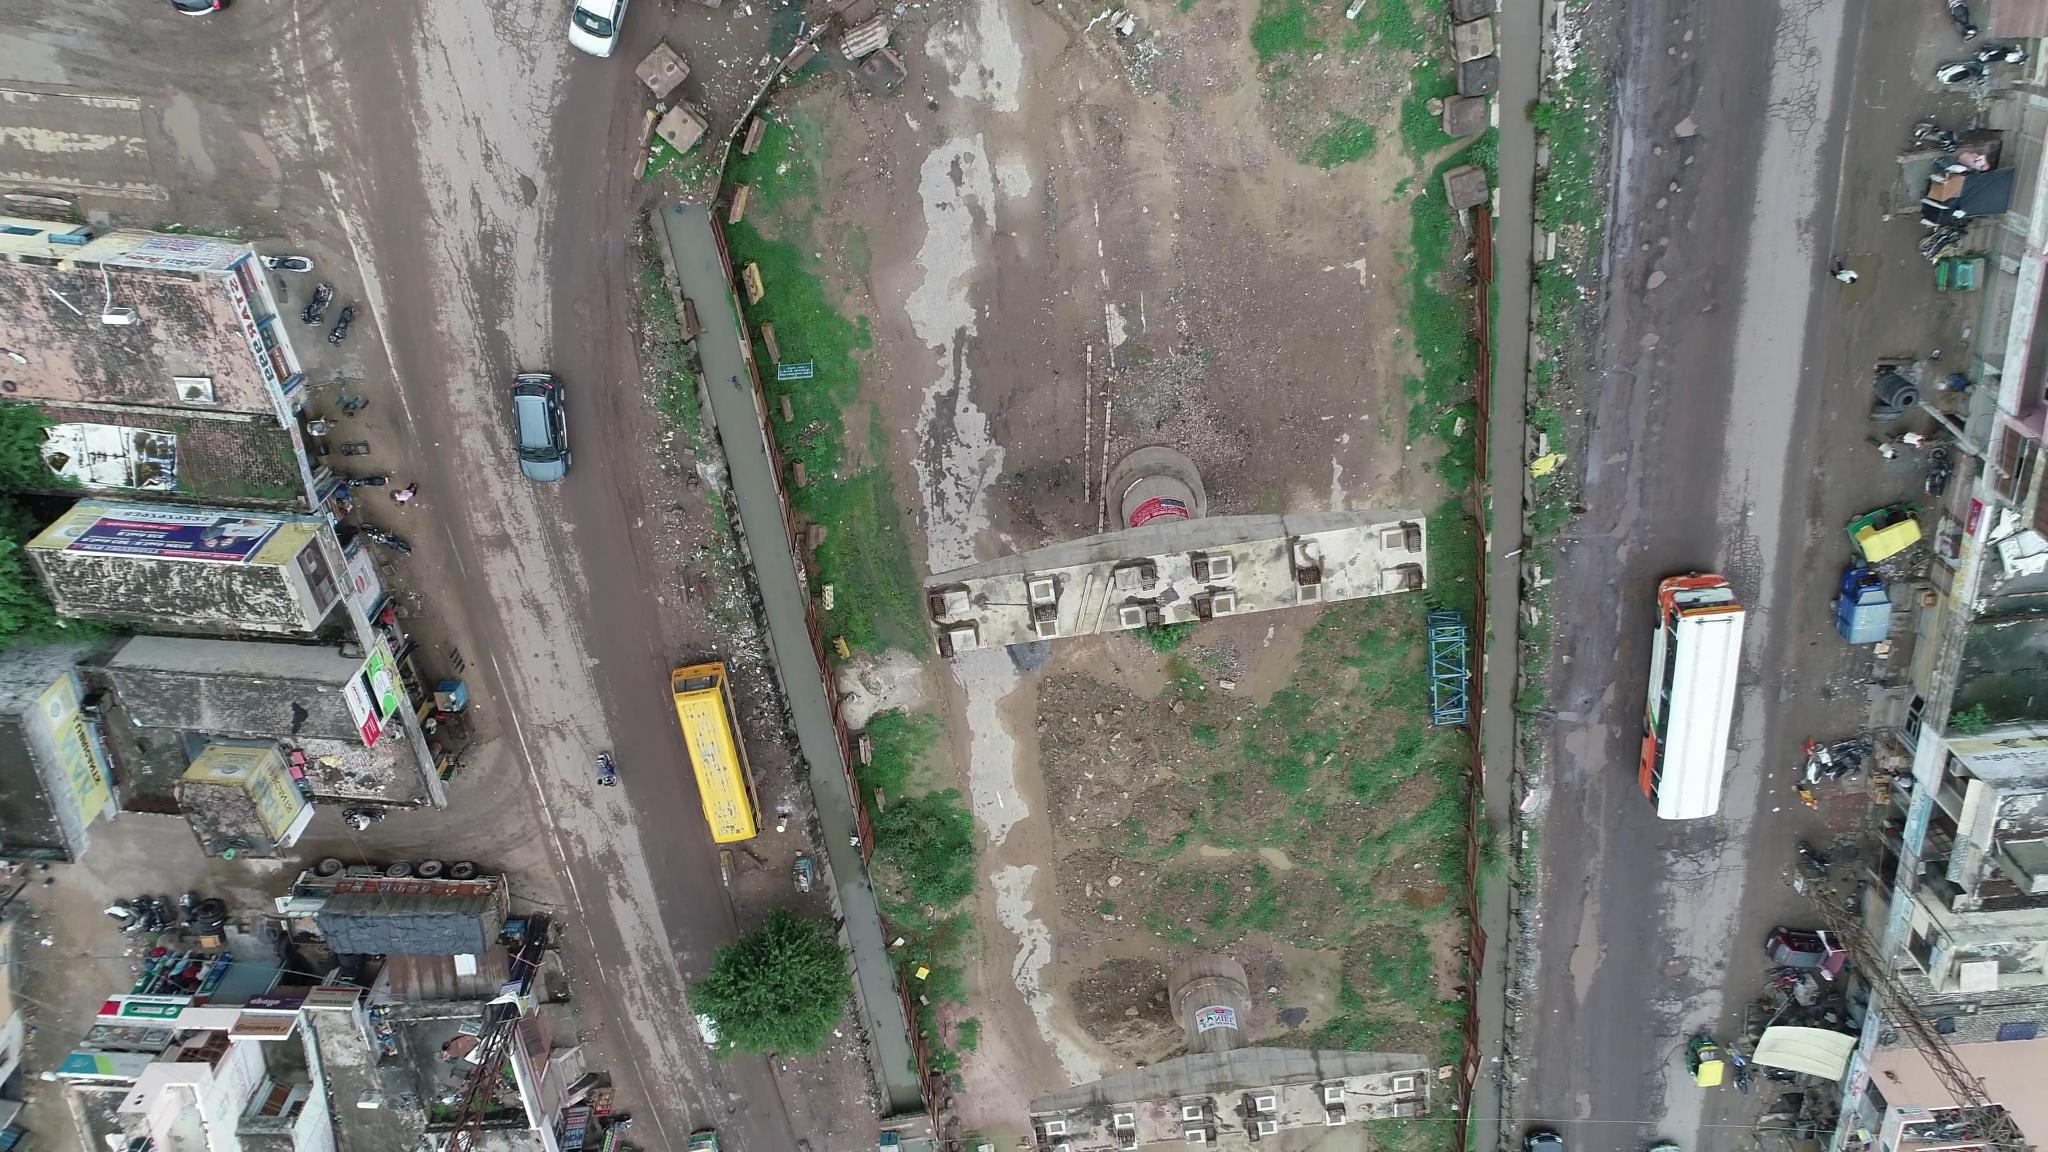Cracks: (1717, 518, 1778, 623)
Muddy_road: (570, 131, 630, 359), (608, 663, 665, 765)
Potholes: (1627, 138, 1710, 307), (702, 1073, 760, 1124), (1649, 949, 1705, 987)
